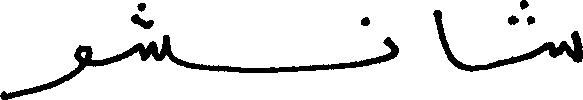X: (0, 40, 92, 99), (138, 0, 169, 65), (434, 5, 459, 73), (550, 26, 582, 67), (384, 32, 396, 66)
